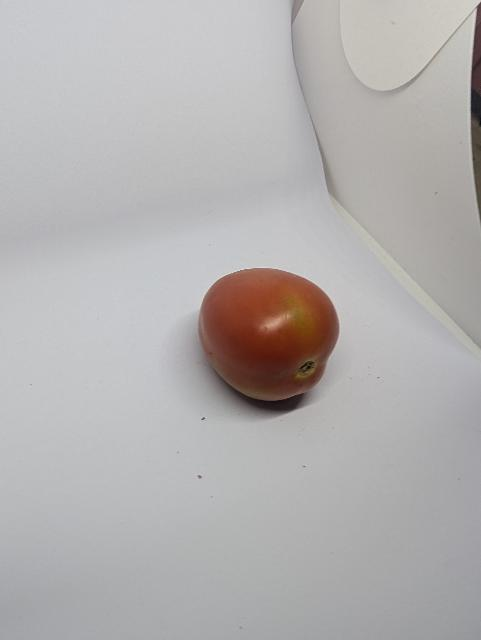turning: (197, 264, 343, 405)
